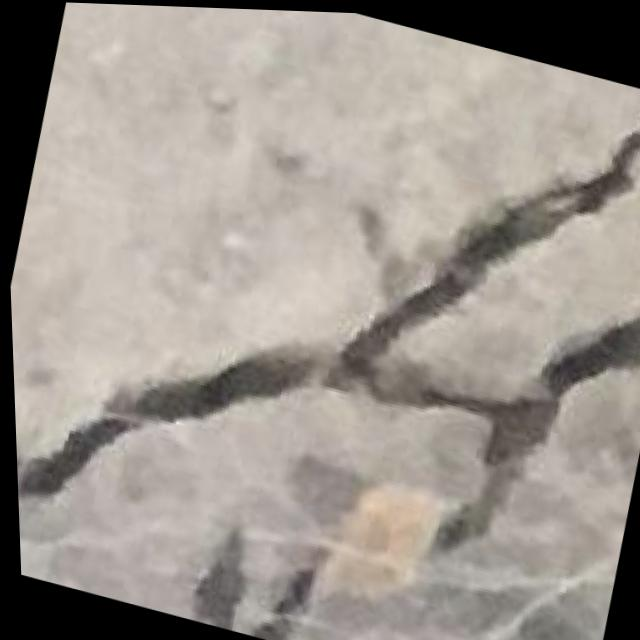Crack: (289, 20, 640, 618), (7, 244, 354, 623)
